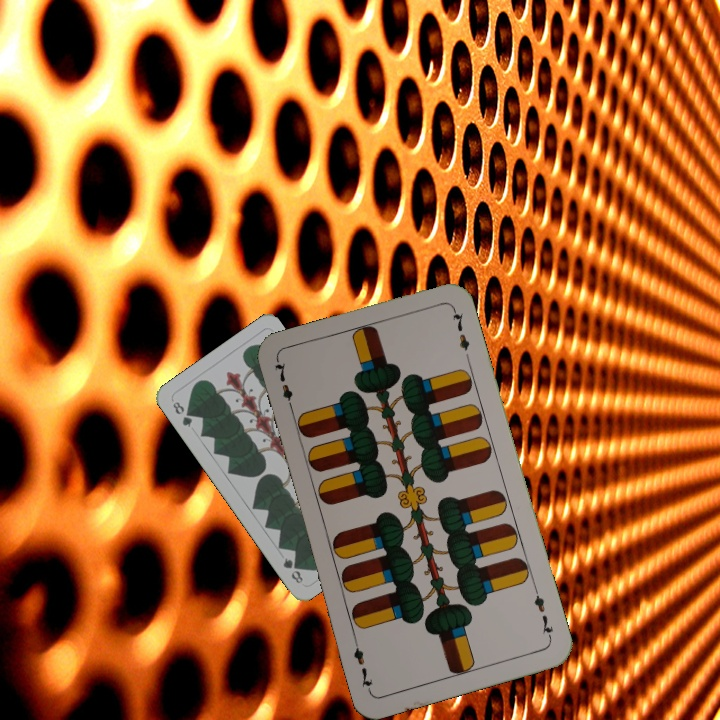E7: (529, 584, 556, 642), (271, 357, 297, 415)
G8: (168, 397, 195, 430)
